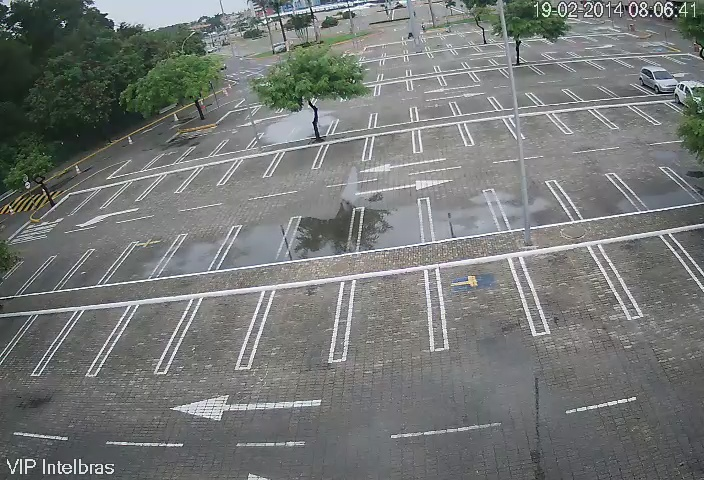car: (639, 64, 675, 92), (670, 80, 704, 108)
lot: (429, 256, 532, 356), (514, 250, 625, 336), (341, 270, 435, 364), (598, 239, 700, 315), (264, 280, 341, 374), (184, 291, 252, 378), (112, 296, 175, 386), (357, 194, 427, 254), (620, 165, 700, 216), (552, 172, 633, 222), (65, 301, 110, 385), (9, 310, 62, 374), (494, 181, 567, 227), (227, 213, 286, 269), (425, 193, 504, 234), (296, 212, 358, 261), (547, 105, 616, 146), (172, 221, 222, 276), (74, 238, 119, 290), (120, 239, 177, 279), (31, 248, 77, 295), (367, 129, 423, 166), (460, 117, 524, 149), (414, 122, 470, 158), (3, 257, 49, 300), (316, 142, 374, 176), (505, 110, 564, 143), (266, 146, 318, 181), (595, 102, 648, 133), (79, 181, 124, 217), (182, 166, 226, 200), (224, 158, 272, 189), (146, 168, 188, 202), (47, 187, 87, 217), (373, 105, 419, 128), (635, 101, 675, 127), (121, 178, 149, 210), (414, 103, 457, 123), (454, 97, 501, 115), (535, 85, 577, 105), (330, 113, 369, 133), (604, 78, 642, 98), (152, 150, 185, 167), (215, 136, 254, 150), (495, 92, 537, 105), (569, 87, 609, 100), (188, 142, 217, 157), (117, 157, 146, 171)
